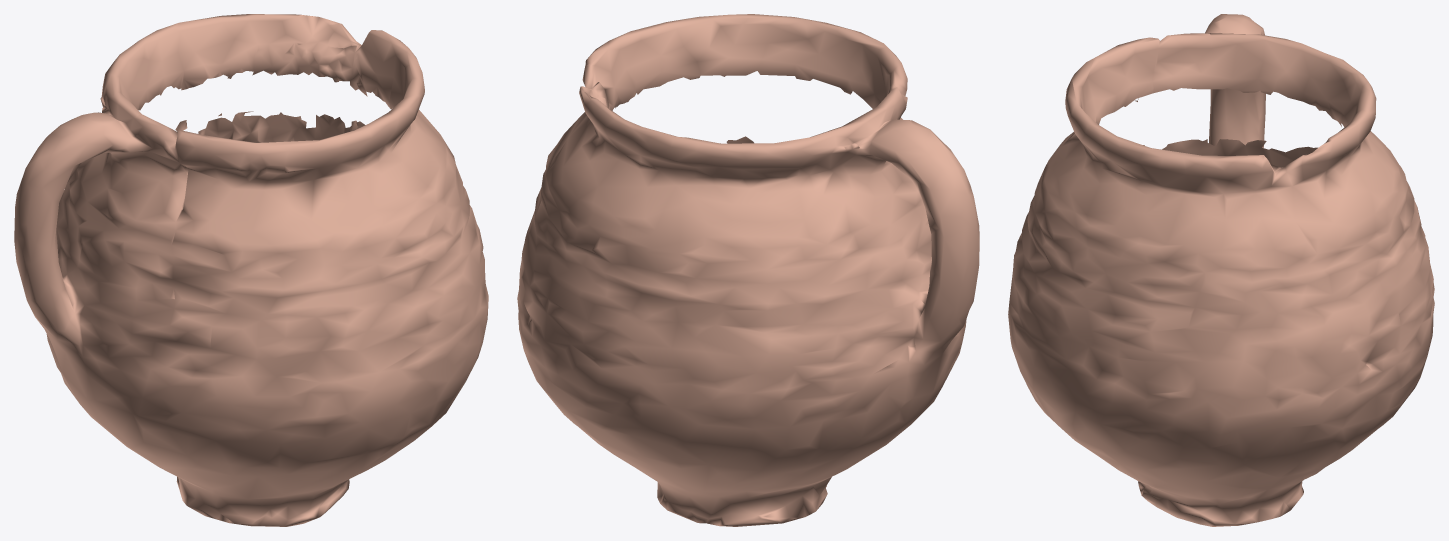
File: wc-roman-pottery-r3950.lod1.glb
The picture shows the model from 3 angles, left to right: view 1: azimuth 30°, elevation 25°; view 2: azimuth 150°, elevation 25°; view 3: azimuth 270°, elevation 25°; orthographic projection. The views are drawn at different scales.
Visible parts, largest first — view 1: wc-roman-pottery-r3950; view 2: wc-roman-pottery-r3950; view 3: wc-roman-pottery-r3950.
Boxes of the visible parts, bbox=[...] form: wc-roman-pottery-r3950: bbox=[14, 14, 488, 526]; wc-roman-pottery-r3950: bbox=[517, 14, 979, 526]; wc-roman-pottery-r3950: bbox=[1008, 14, 1434, 526].
Size of the model in its own units: 0.2366 by 0.2196 by 0.211.
